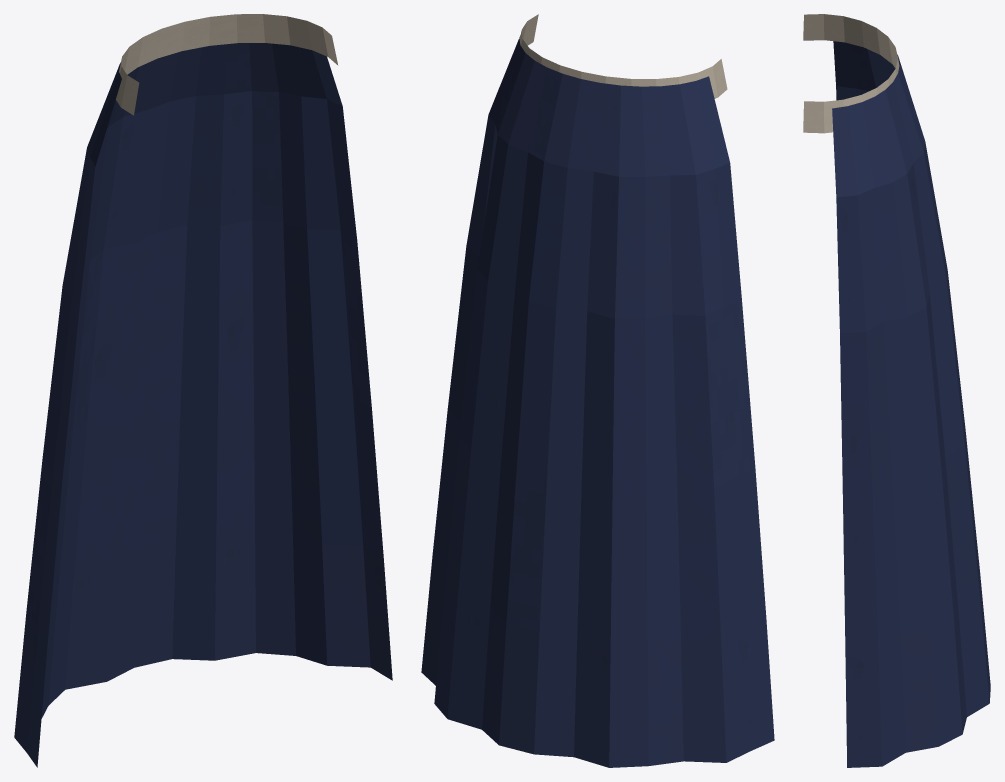
Rendered from acc_cape_long.glb.
3 views of the same model, side by side, from view 1: azimuth 30°, elevation 25°; view 2: azimuth 150°, elevation 25°; view 3: azimuth 270°, elevation 25° (orthographic). The views are drawn at different scales.
Parts seen in each view (by area): view 1: acc_cape_long; view 2: acc_cape_long; view 3: acc_cape_long.
Part boxes in pixels (x1=…): acc_cape_long: x1=14, y1=14, x2=392, y2=767; acc_cape_long: x1=421, y1=14, x2=774, y2=767; acc_cape_long: x1=803, y1=14, x2=990, y2=767.
Size of the model in its own units: 0.5342 by 0.98 by 0.265.
Materials: 2 (2 with a texture image).
